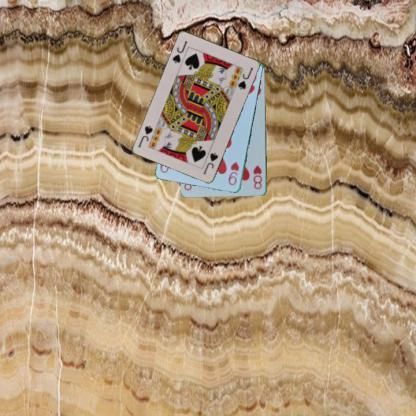8h: (251, 163, 263, 191)
9h: (226, 159, 240, 187)
Js: (170, 38, 189, 66), (200, 150, 219, 176)
